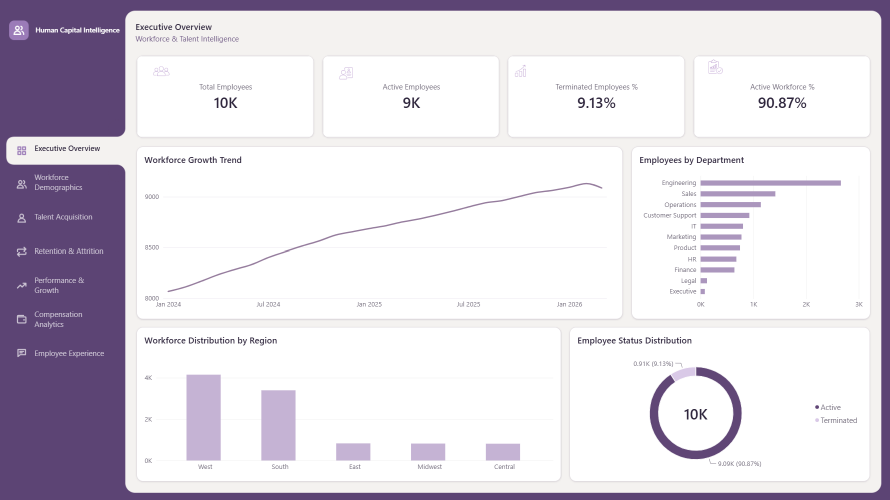

The dashboard page shown, as its layout file describes it:
{"tool":"powerbi","page":{"name":"Executive Overview","canvas":[1920,1080],"ordinal":1},"visuals":[{"type":"cardVisual","title":"KPI card 1","fields":{"Data":["Dim_Date.Total Employees"]},"box":[300,120,380,176],"z":0},{"type":"cardVisual","title":"KPI card 2","fields":{"Data":["Dim_Date.Active Employees"]},"box":[698,120,379,176],"z":1000},{"type":"cardVisual","title":"KPI card 3","fields":{"Data":["Dim_Date.Attrition Rate %"]},"box":[1095,120,380,176],"z":2000},{"type":"cardVisual","title":"KPI card 4","fields":{"Data":["Dim_Date.Active Workforce %"]},"box":[1493,120,379,176],"z":3000},{"type":"lineChart","title":"Workforce Growth Trend","fields":{"Category":["fact_headcount_monthly.SnapshotDate"],"Y":["Sum(fact_headcount_monthly.Headcount)"]},"box":[300,314,1042,369],"z":4000},{"type":"clusteredBarChart","title":"Employees by Department","fields":{"Category":["dim_departments.DepartmentName"],"Y":["Dim_Date.Total Employees"]},"box":[1360,314,512,369],"z":5000},{"type":"clusteredColumnChart","title":"Workforce Distribution by Region","fields":{"Category":["dim_locations.Region"],"Y":["Dim_Date.Total Employees"]},"box":[300,701,910,331],"z":6000},{"type":"donutChart","title":"Employee Status Distribution","fields":{"Category":["fact_employee_current.EmploymentStatus"],"Y":["CountNonNull(fact_employee_current.EmployeeID)"]},"box":[1228,701,644,331],"z":7000},{"type":"textbox","title":"Company","box":[83,54,266,25],"z":8000},{"type":"textbox","title":"Page title","box":[298,45,246,32],"z":9000},{"type":"textbox","title":"Subtitle","box":[298,73,340,27],"z":10000},{"type":"pageNavigator","title":"Page navigation","box":[82,294,150,492],"z":11000},{"type":"image","box":[300,120,100,60],"z":12000},{"type":"image","box":[1077.9,120,100,60],"z":13000},{"type":"image","box":[1493.6,120,100,60],"z":14000},{"type":"image","box":[698.6,120,100,60],"z":15000}]}

Visuals, with their boxes on the page's 1920x1080 design canvas (x1, y1, x2, y2). These are canvas units, not pixel positions in the 890x500 screenshot, which may show the page scaled, cropped or inside an application window:
"KPI card 1" cardVisual: (300, 120, 680, 296)
"KPI card 2" cardVisual: (698, 120, 1077, 296)
"KPI card 3" cardVisual: (1095, 120, 1475, 296)
"KPI card 4" cardVisual: (1493, 120, 1872, 296)
"Workforce Growth Trend" lineChart: (300, 314, 1342, 683)
"Employees by Department" clusteredBarChart: (1360, 314, 1872, 683)
"Workforce Distribution by Region" clusteredColumnChart: (300, 701, 1210, 1032)
"Employee Status Distribution" donutChart: (1228, 701, 1872, 1032)
"Company" textbox: (83, 54, 349, 79)
"Page title" textbox: (298, 45, 544, 77)
"Subtitle" textbox: (298, 73, 638, 100)
"Page navigation" pageNavigator: (82, 294, 232, 786)
image: (300, 120, 400, 180)
image: (1078, 120, 1178, 180)
image: (1494, 120, 1594, 180)
image: (699, 120, 799, 180)
